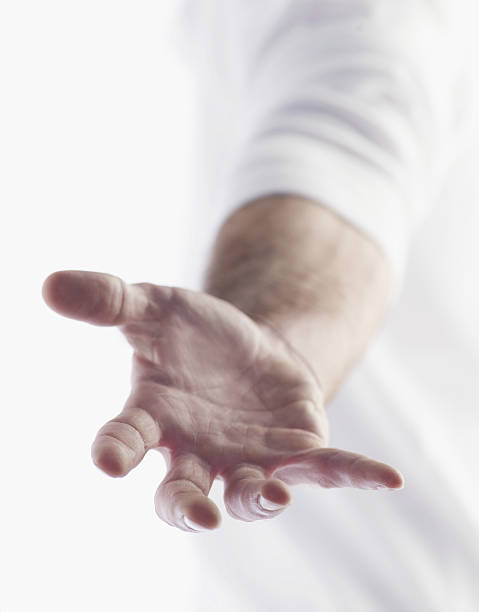non-diseased: (35, 231, 409, 525)
